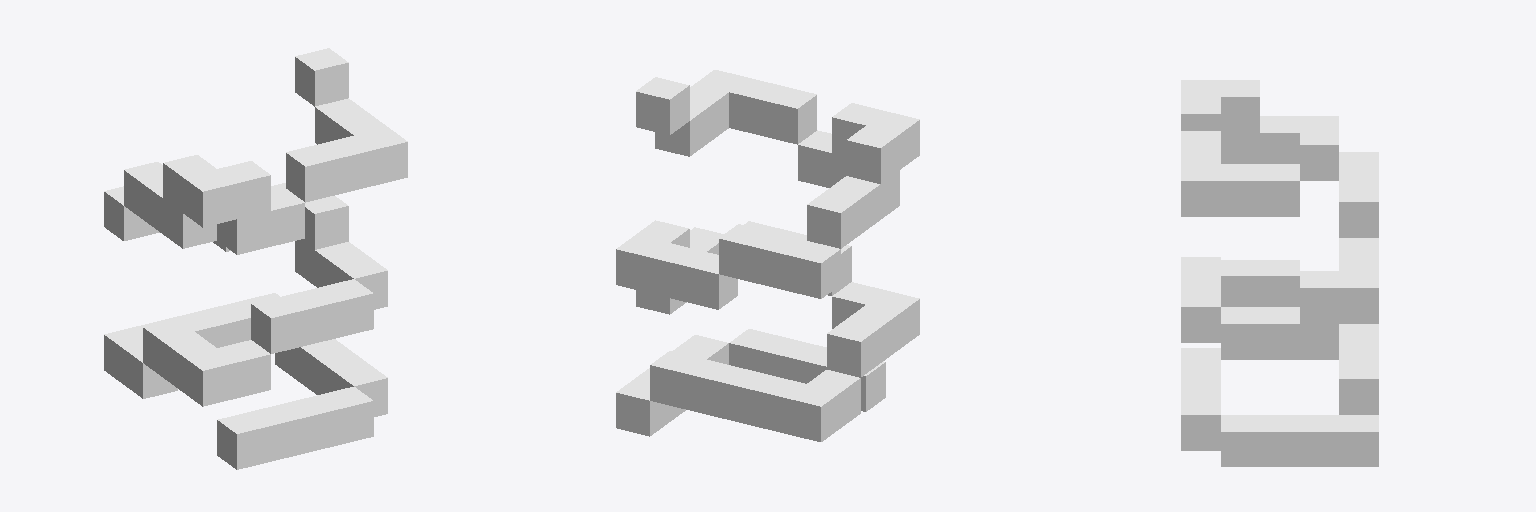
Rendered from Spring.obj.
3 renders of one model, left to right at view 1: azimuth 30°, elevation 25°; view 2: azimuth 150°, elevation 25°; view 3: azimuth 270°, elevation 25°, orthographic.
Visible parts, largest first — view 1: object 1; view 2: object 1; view 3: object 1.
Part boxes in pixels (bbox=[...]): object 1: bbox=[104, 48, 407, 469]; object 1: bbox=[616, 70, 919, 441]; object 1: bbox=[1181, 80, 1378, 466].
Size of the model in its own units: 0.6 by 0.9 by 0.5.